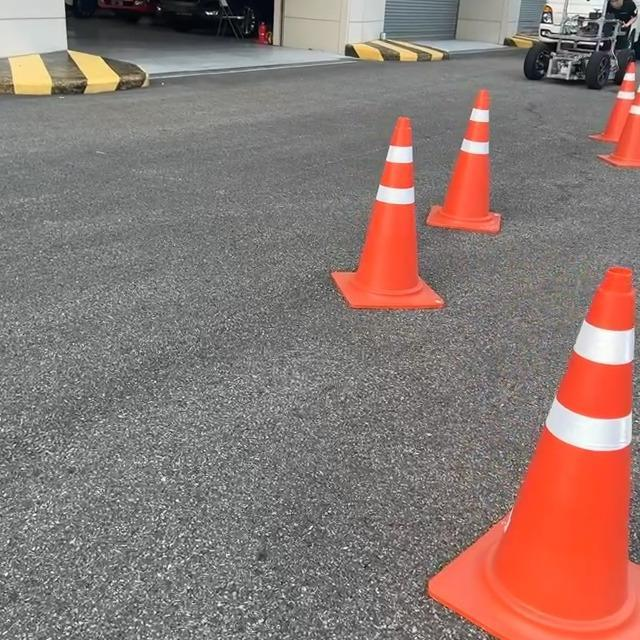fallen_object: (476, 244, 640, 640), (299, 46, 456, 335), (396, 57, 558, 306), (586, 66, 640, 234)
